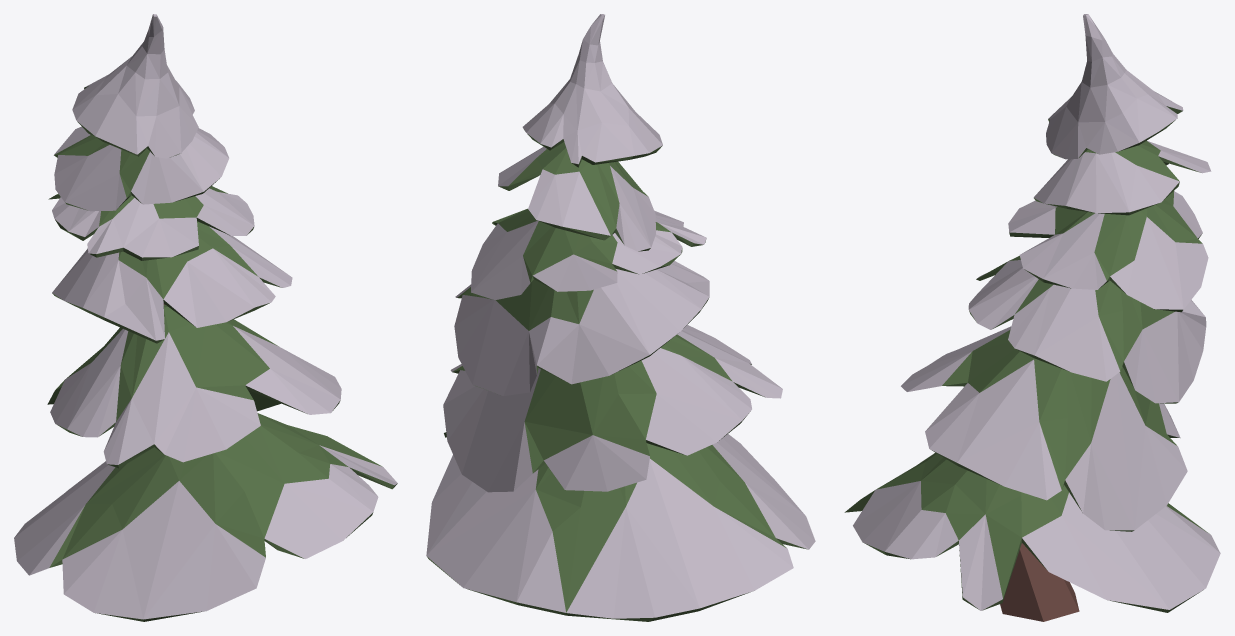
File: PineTree_Snow_3.lod1.glb
3 views of the same model, side by side, from view 1: azimuth 30°, elevation 25°; view 2: azimuth 150°, elevation 25°; view 3: azimuth 270°, elevation 25° (orthographic). The views are drawn at different scales.
Parts seen in each view (by area): view 1: PineTree_Snow_3; view 2: PineTree_Snow_3; view 3: PineTree_Snow_3.
Part boxes in pixels (x1,y1,x2,y2): PineTree_Snow_3: (14,14,397,621); PineTree_Snow_3: (426,14,815,621); PineTree_Snow_3: (844,14,1220,621).
Size of the model in its own units: 2.15 by 3.3 by 1.95.
